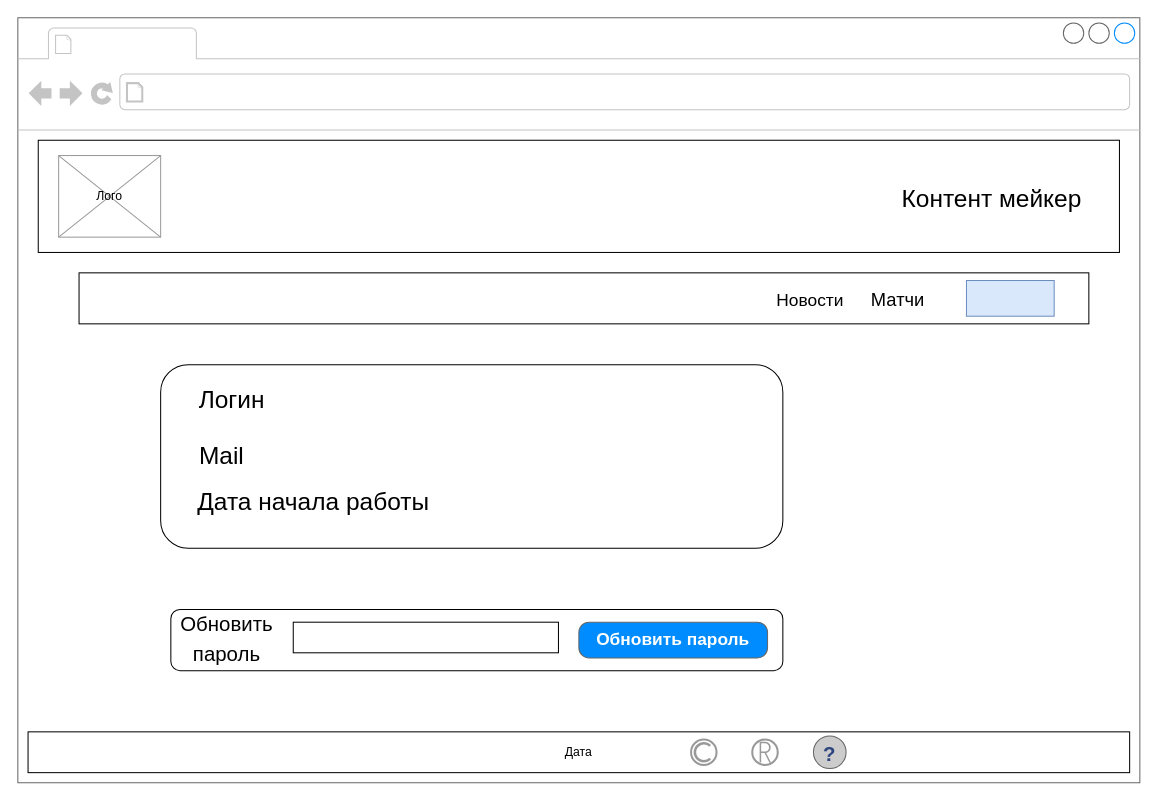
The diagram is 1158 pixels wide and 801 high, and some of its shapes have lost their labels. Each missing label, with the centre of its shape:
"Профиль" goes at (1009,297).
"ФК ЦСКА" goes at (134,43).
